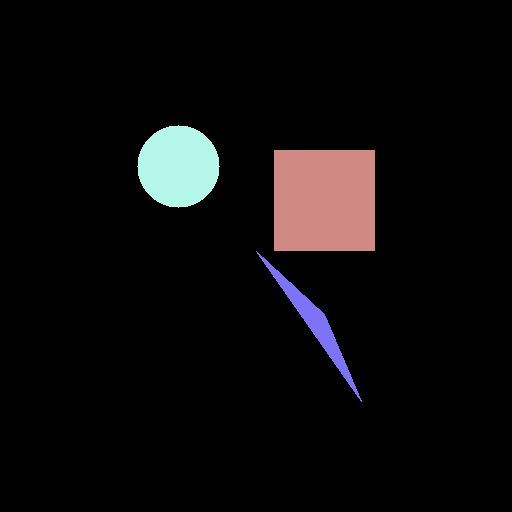circle: (137, 125, 219, 207)
square: (274, 150, 374, 250)
triangle: (256, 251, 361, 401)
